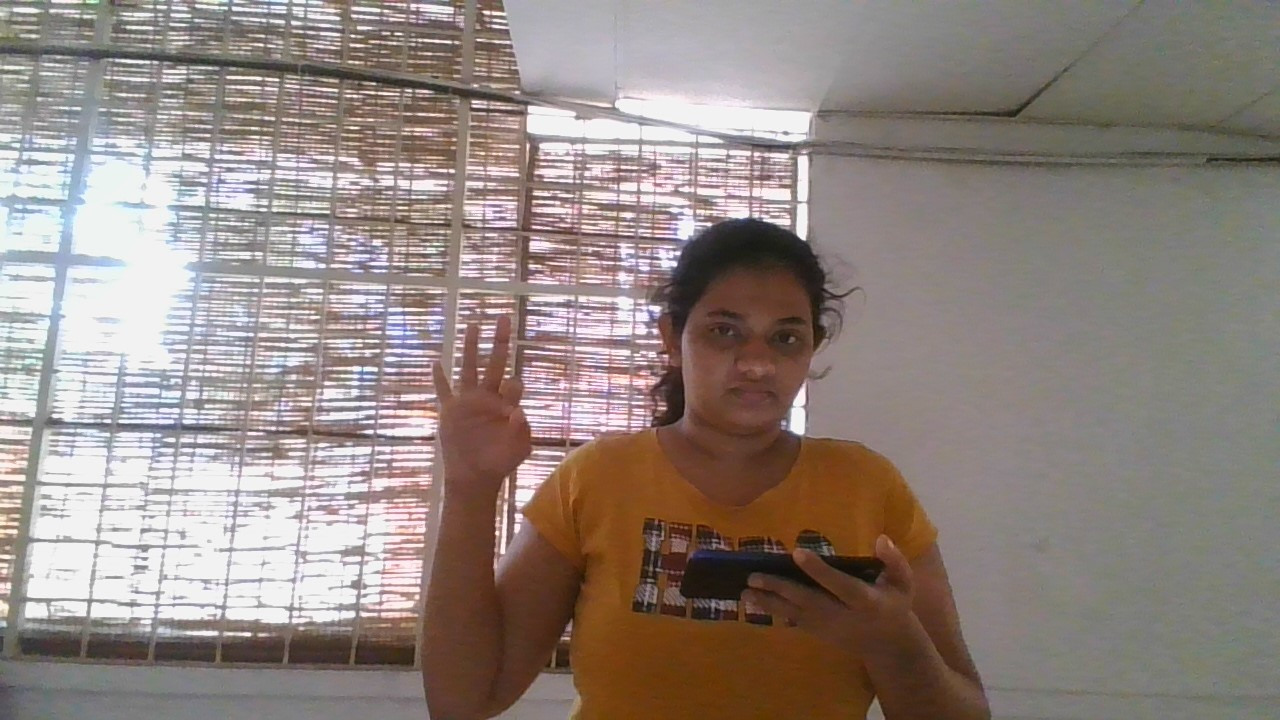f: (420, 312, 544, 501)
